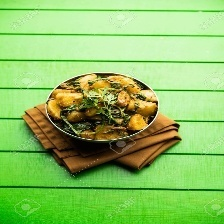sabzi: (46, 68, 160, 144)
